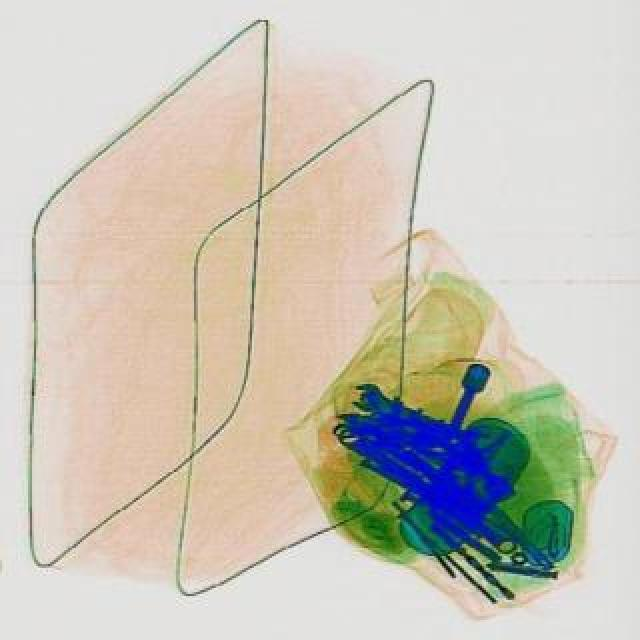scissors: (350, 376, 472, 450)
